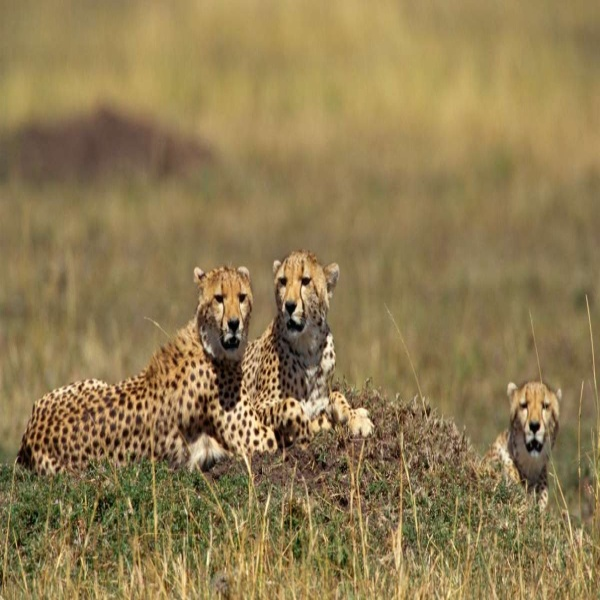Cheetah: (17, 260, 278, 478), (246, 246, 378, 438), (480, 377, 568, 512)
